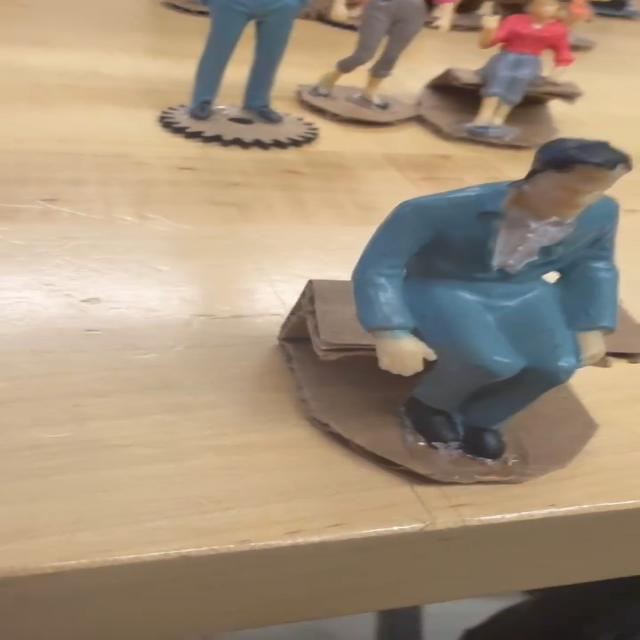Authorized: (351, 126, 640, 455)
